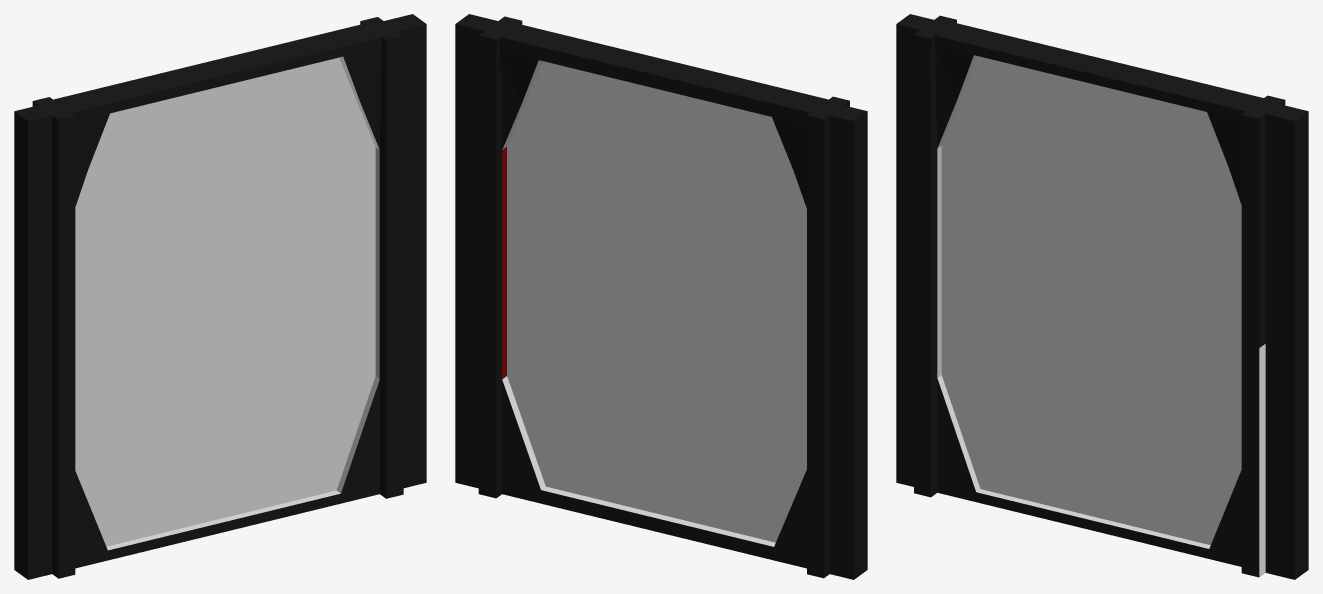
Rendered from SciFi_door_(M4tt30).fbx.
3 views of the same model, side by side, from view 1: azimuth 30°, elevation 25°; view 2: azimuth 150°, elevation 25°; view 3: azimuth 330°, elevation 25° (orthographic).
Visible parts, largest first — view 1: Cube.013; view 2: Cube.013; view 3: Cube.013.
Part boxes in pixels (left/top/right/bottom): Cube.013: left=14, top=14, right=426, bottom=579; Cube.013: left=455, top=14, right=867, bottom=579; Cube.013: left=896, top=14, right=1308, bottom=579.
Bounding box in the file's own units: 200 × 220 × 22.55.
3 materials, 1 textured.
